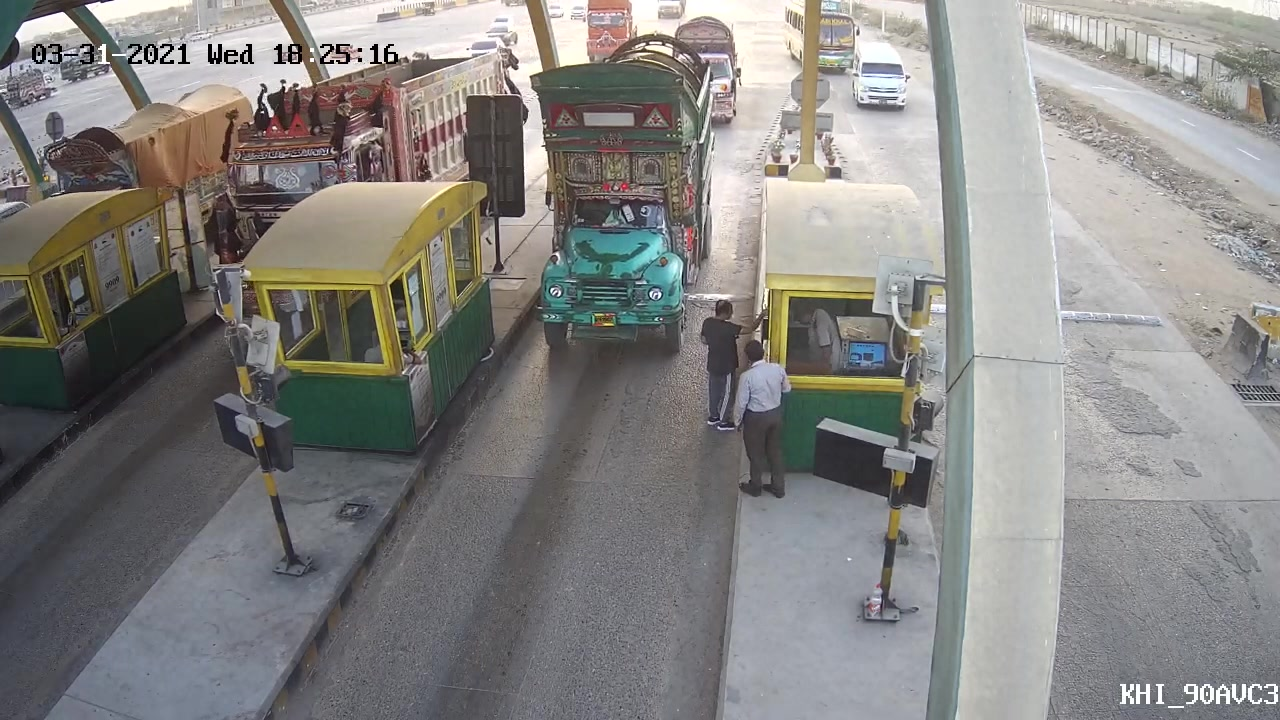F5: (501, 58, 716, 356)
